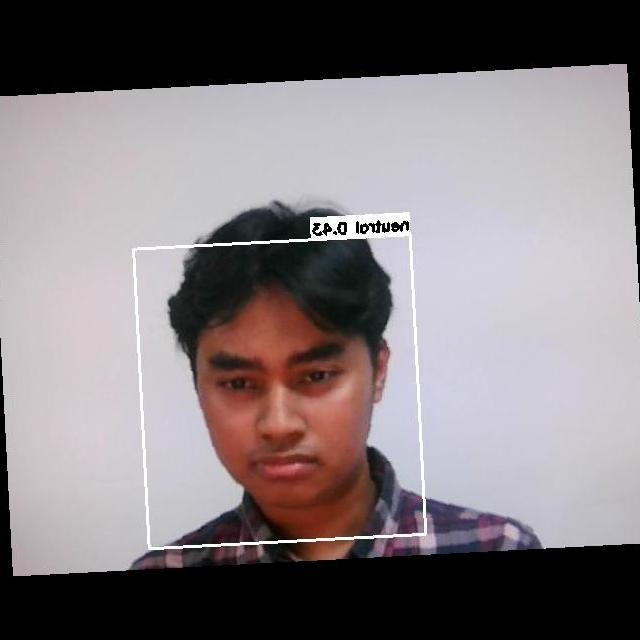Angry: (185, 324, 384, 493)
